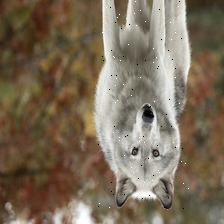WOLF: (96, 0, 189, 208)
